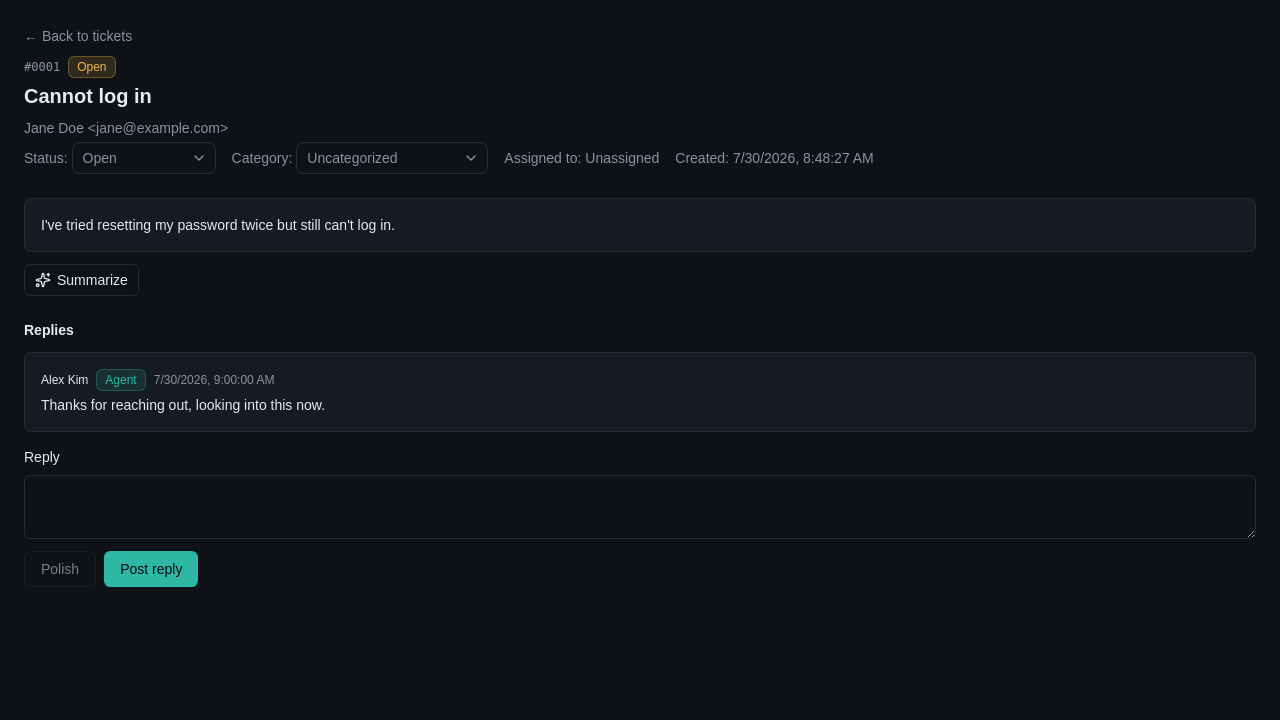
Test: TicketDetail › renders an inline error when the status/category update mutation fails
The width and height of the screenshot is (1280, 720).
Expected: the heading "Cannot log in" is shown, [24,85,152,107]
Click the dropdown named "Status": (144,158) [72,142,216,174]
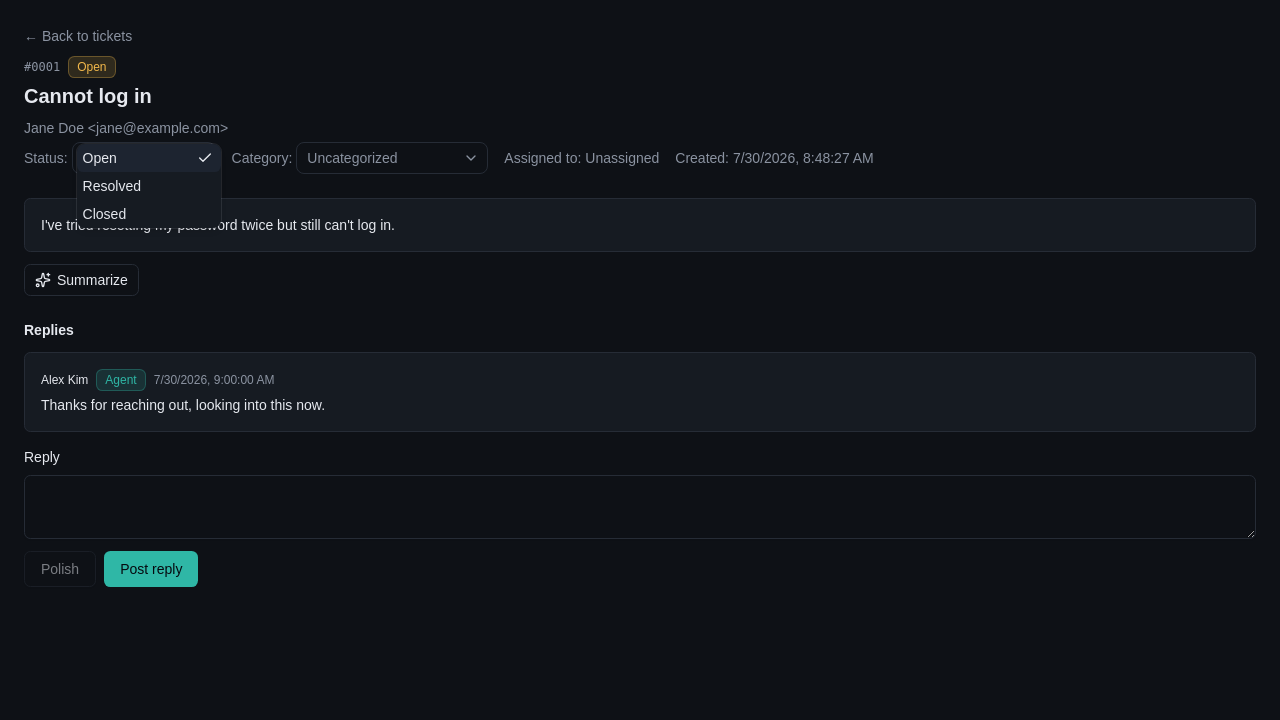
Click the option "Resolved": (112,186) [83,178,141,194]
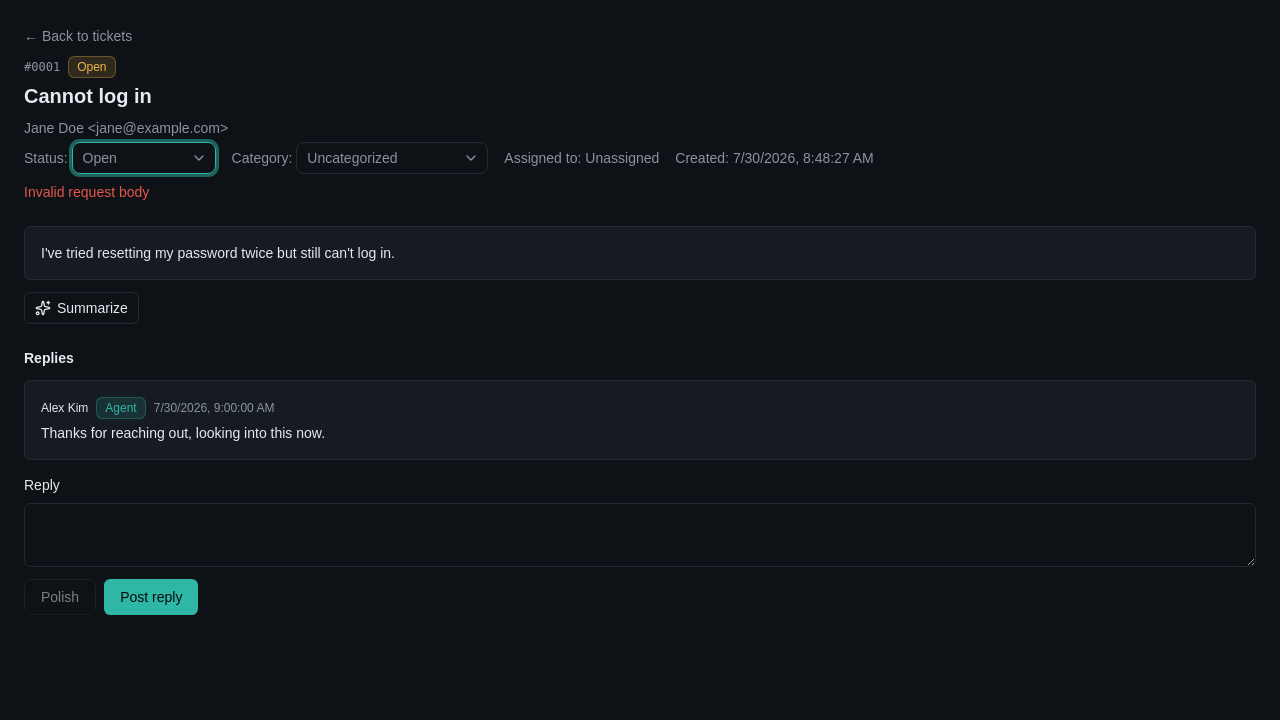
Now the text "Invalid request body" is shown, box [24,184,149,200]
